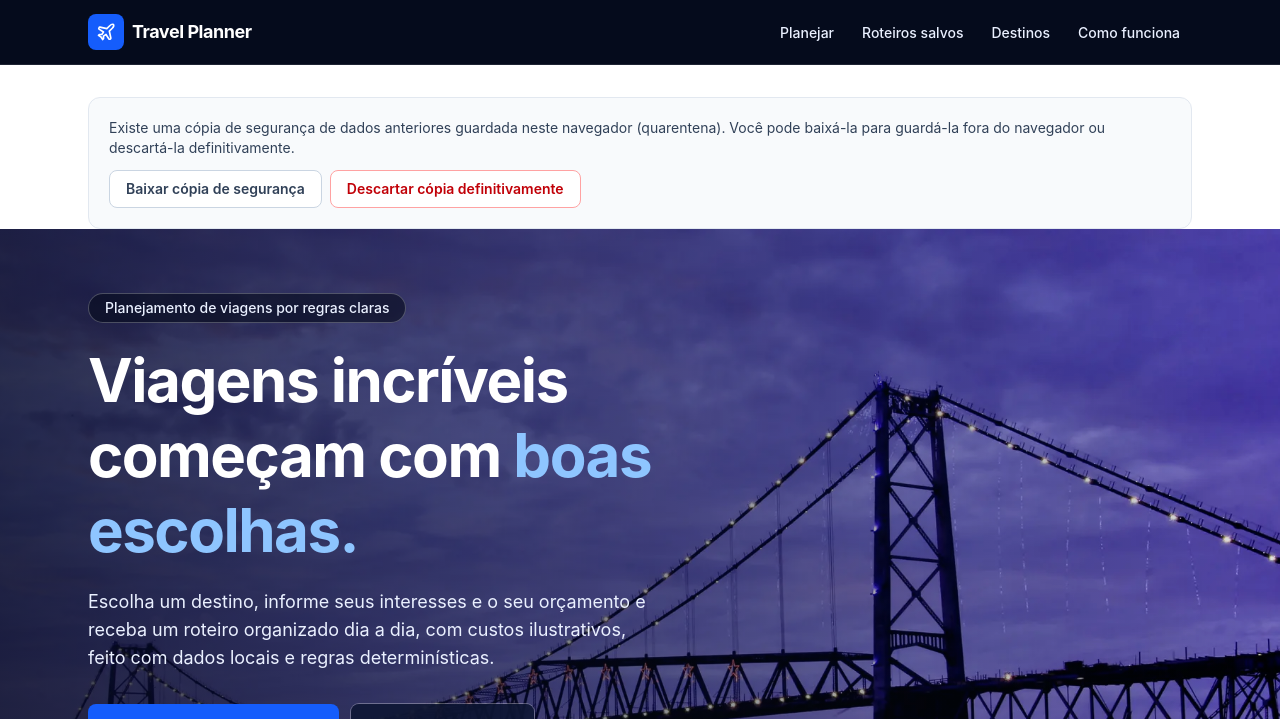
Test: AUD-01 — descarte seguro da quarentena › reproduz o cenário exato do AUD-01: confirmação antiga NÃO descarta a nova quarentena
Click the button "Descartar cópia definitivamente" at (455, 189), box [330,170,581,208]
(page scrolled)
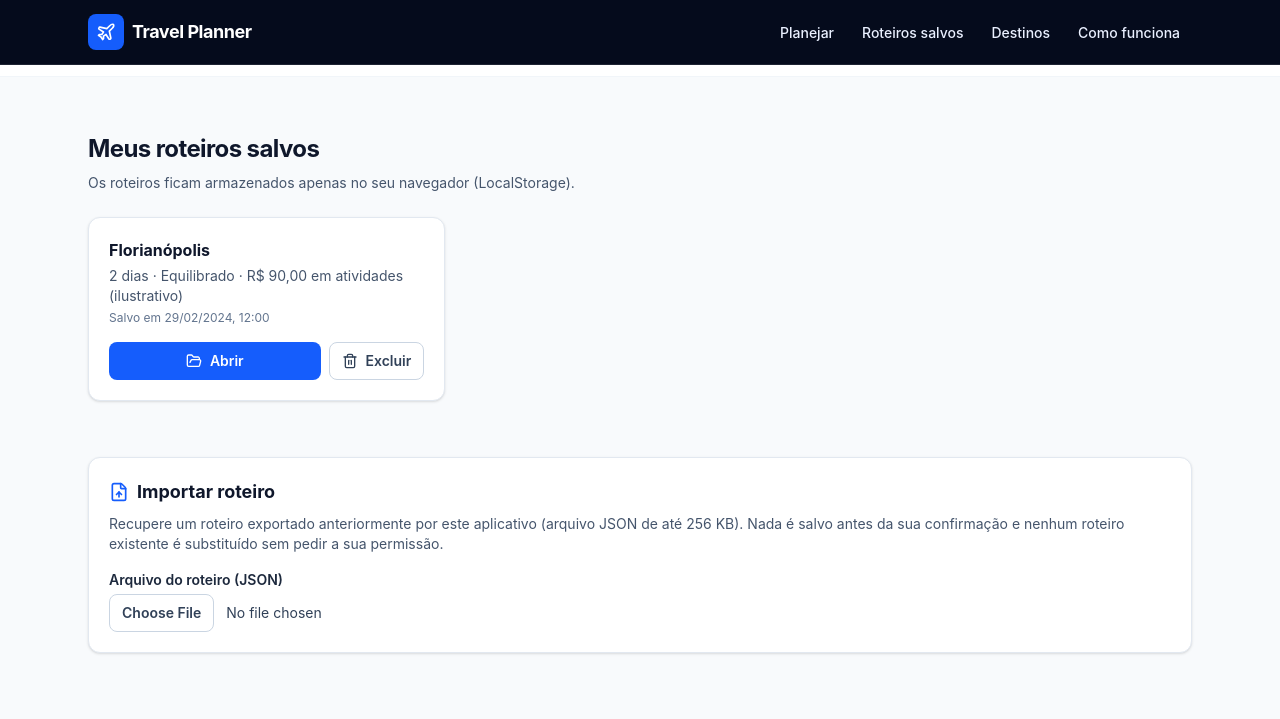
Click the button with aria-label "Excluir roteiro de Florianópolis" at (376, 361), box [329,342,424,380]
(page scrolled)
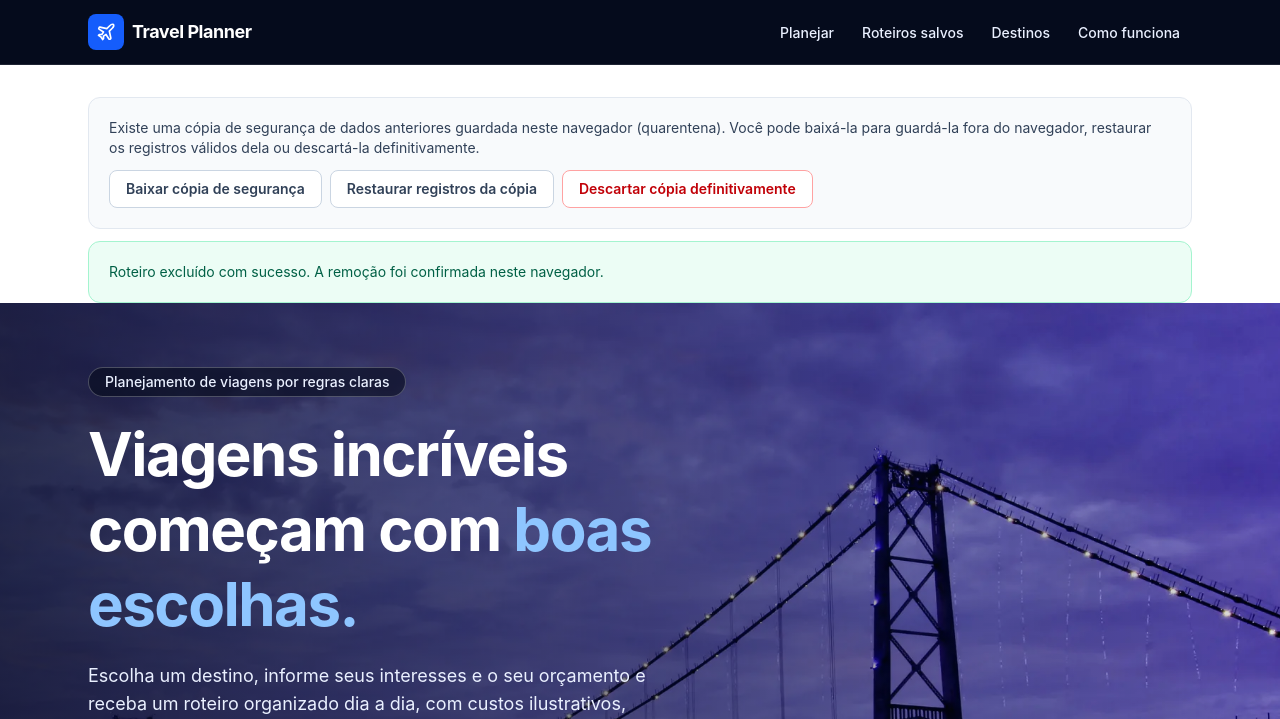
Now the text "Roteiro excluído com sucesso. A remoção foi confirmada neste navegador." is shown, box [88,241,1192,303]
